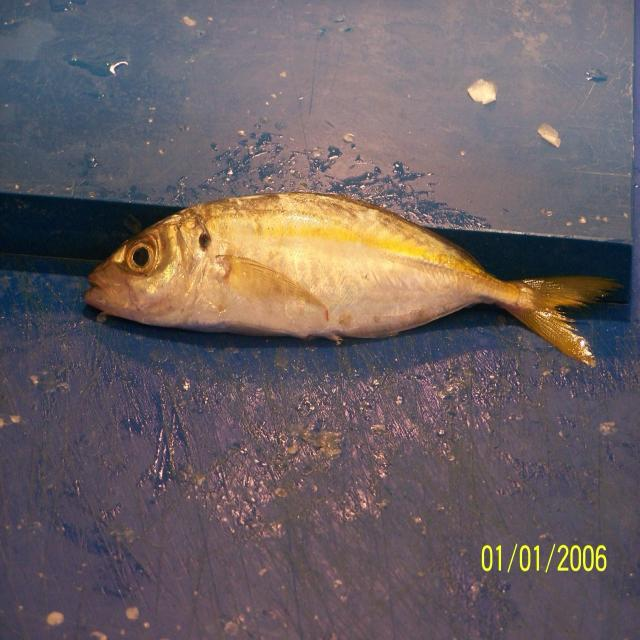Hourse-Mackerel-istavrit-: (82, 193, 620, 367)
